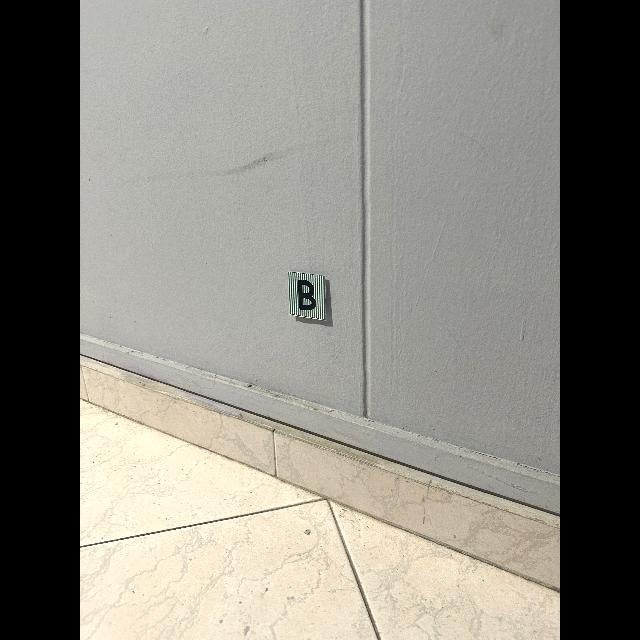B: (297, 279, 316, 310)
